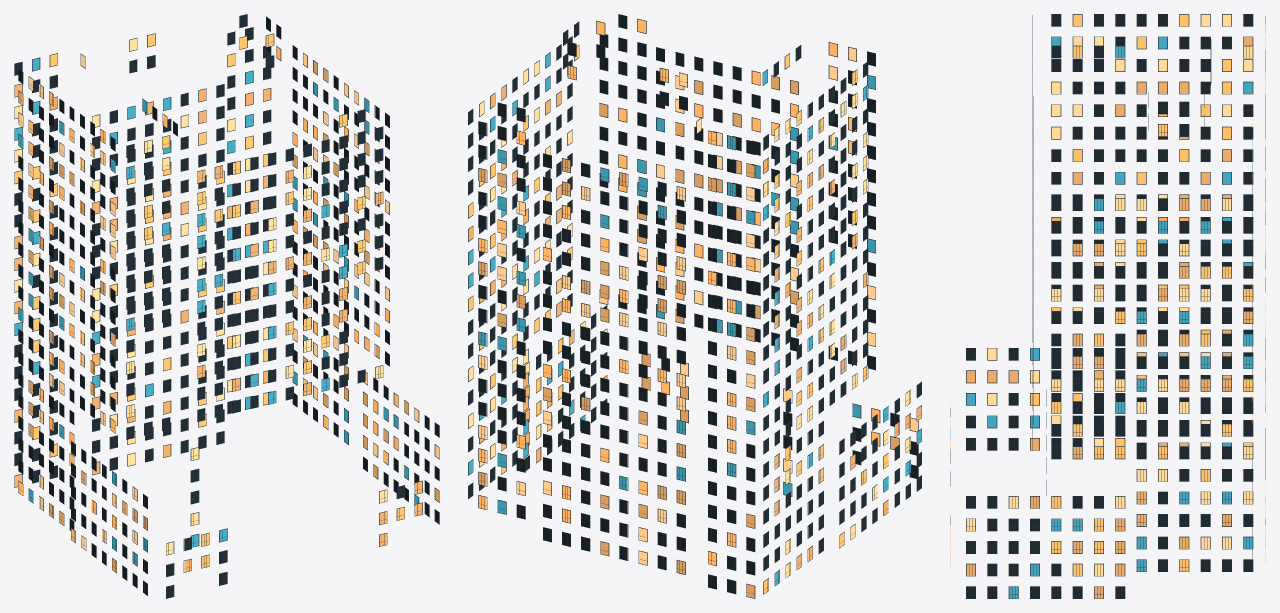
File: facade-building-162.glb
3 views of the same model, side by side, from view 1: azimuth 30°, elevation 25°; view 2: azimuth 150°, elevation 25°; view 3: azimuth 270°, elevation 25° (orthographic). The views are drawn at different scales.
Parts seen in each view (by area): view 1: Facade fittings / building-162; view 2: Facade fittings / building-162; view 3: Facade fittings / building-162.
Part boxes in pixels (bbox=[...]): Facade fittings / building-162: bbox=[14, 14, 439, 598]; Facade fittings / building-162: bbox=[468, 14, 921, 598]; Facade fittings / building-162: bbox=[950, 14, 1265, 598].
Bounding box in the file's own units: 59.25 × 86.36 × 53.31.
